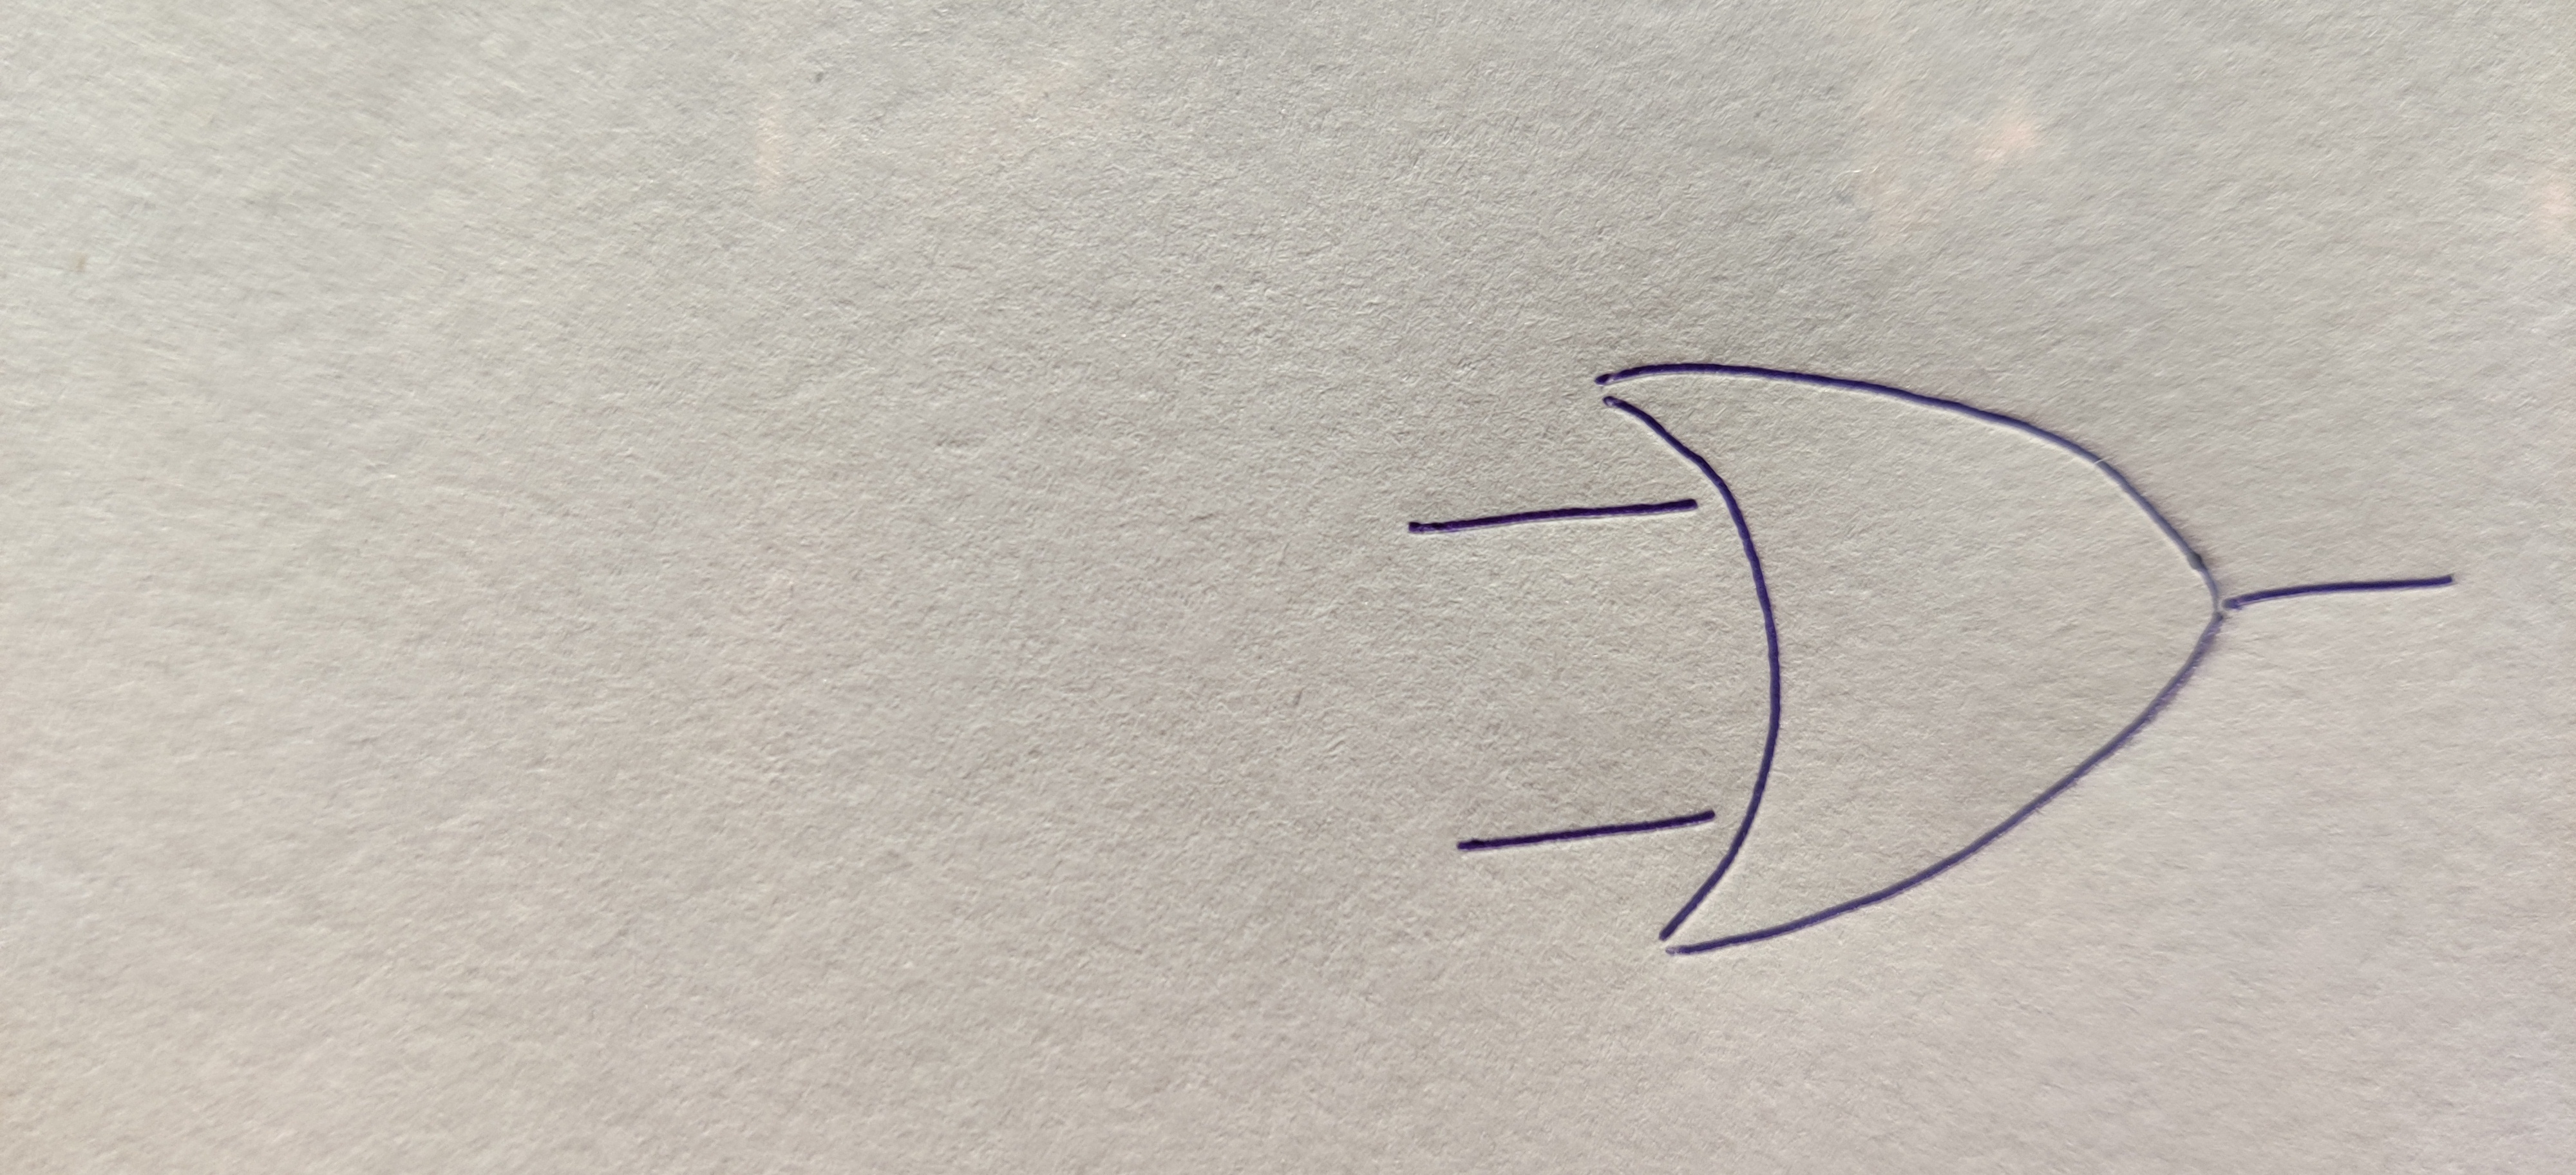or: (1592, 360, 2229, 953)
